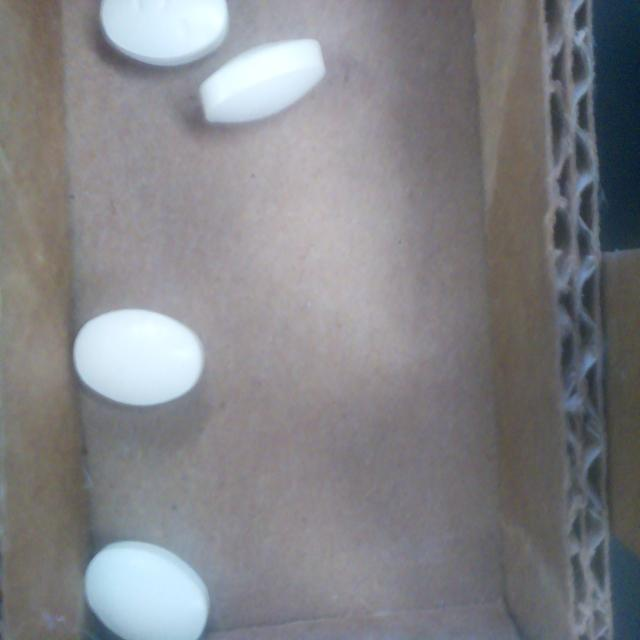pill: (73, 309, 204, 406), (84, 541, 209, 640), (200, 39, 325, 123), (99, 0, 229, 66)
